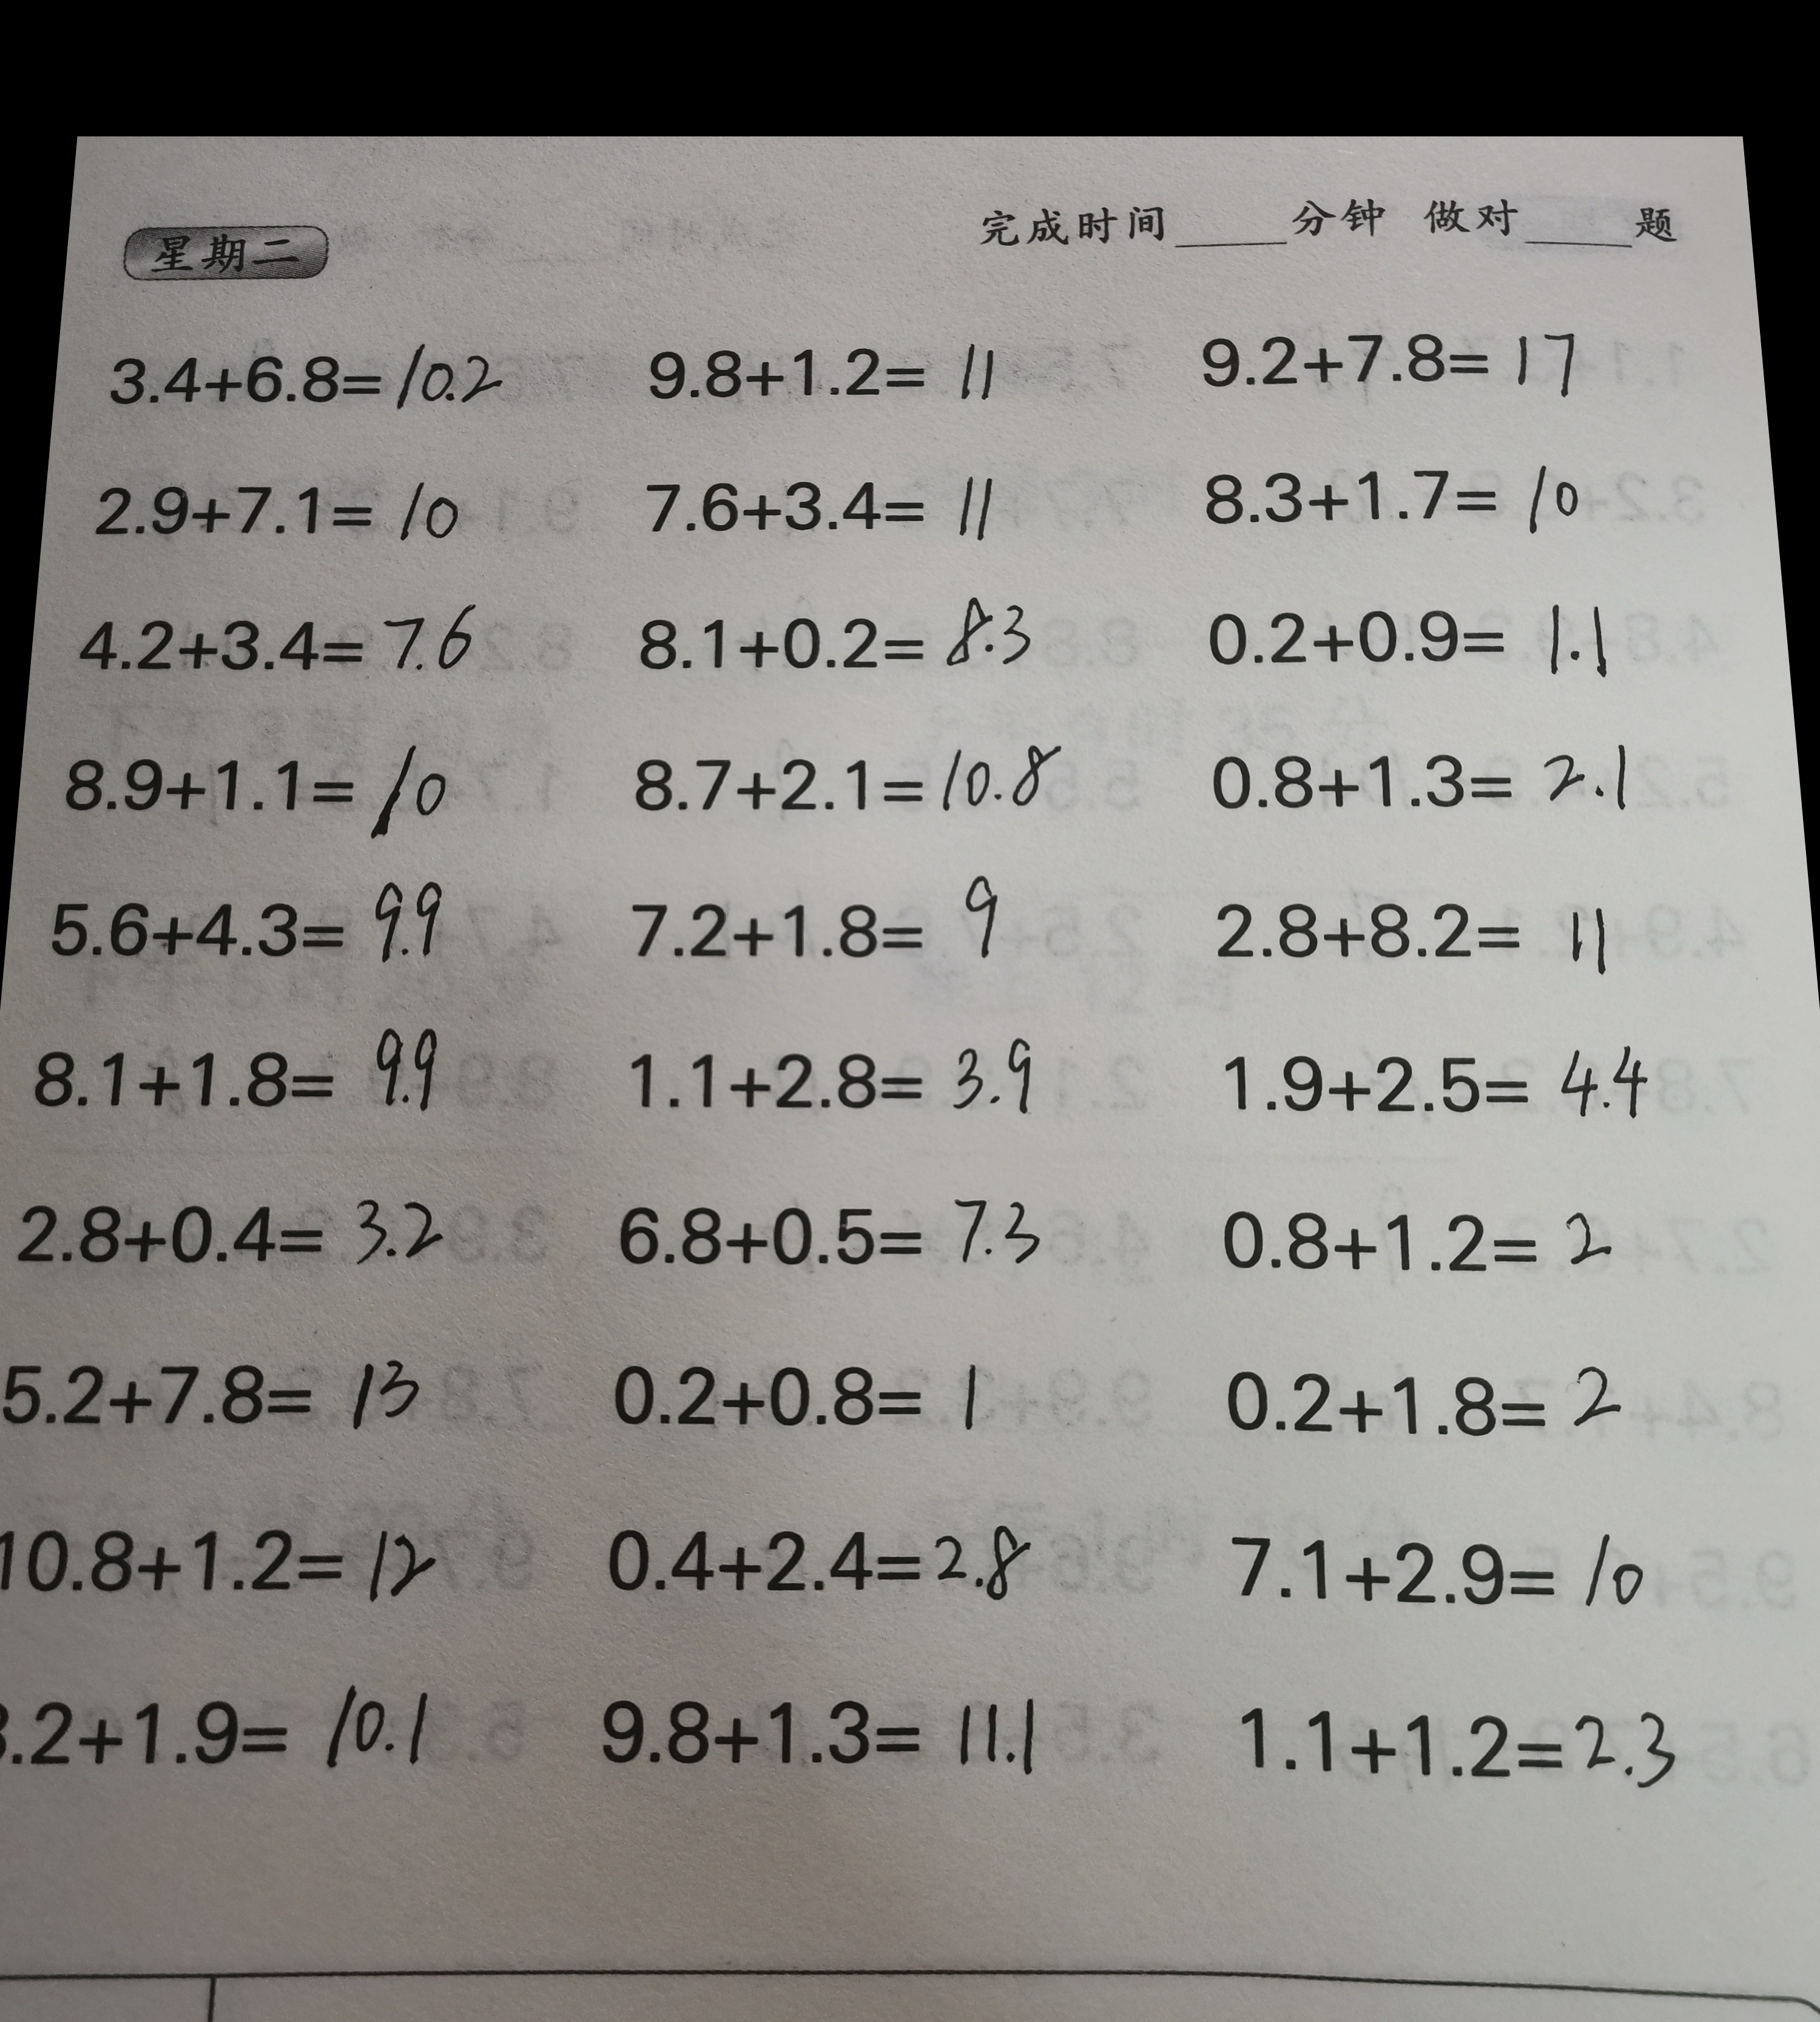equation: (1216, 1676, 1709, 1809), (1200, 1504, 1669, 1621), (590, 1671, 1065, 1787), (613, 1014, 1042, 1142), (594, 1493, 1035, 1616), (0, 1667, 441, 1788), (26, 1010, 460, 1128), (597, 1175, 1058, 1284), (0, 1502, 448, 1613), (1203, 1188, 1630, 1298), (617, 861, 1012, 979), (1193, 873, 1632, 977), (0, 1333, 430, 1439), (1214, 1028, 1671, 1126), (9, 1177, 446, 1279), (1193, 727, 1650, 824), (611, 720, 1058, 819), (46, 734, 466, 836), (47, 871, 453, 977), (1210, 1354, 1650, 1451), (1184, 306, 1595, 406), (1198, 589, 1623, 683), (601, 1347, 1010, 1446), (76, 592, 499, 687), (634, 580, 1044, 676), (93, 332, 515, 420), (1186, 448, 1597, 538), (86, 466, 476, 555), (634, 316, 1001, 409), (634, 460, 1003, 545)
